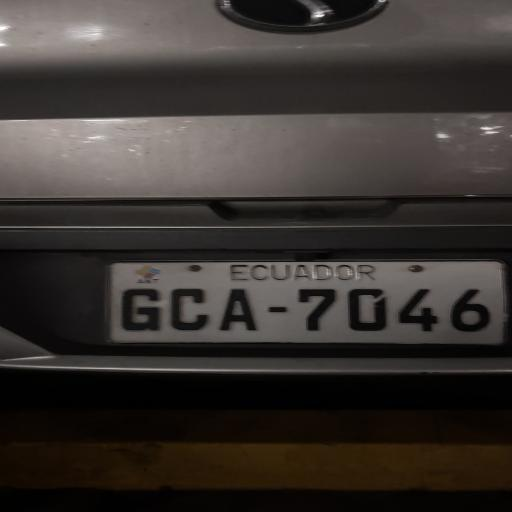license_plate: (109, 261, 506, 344)
